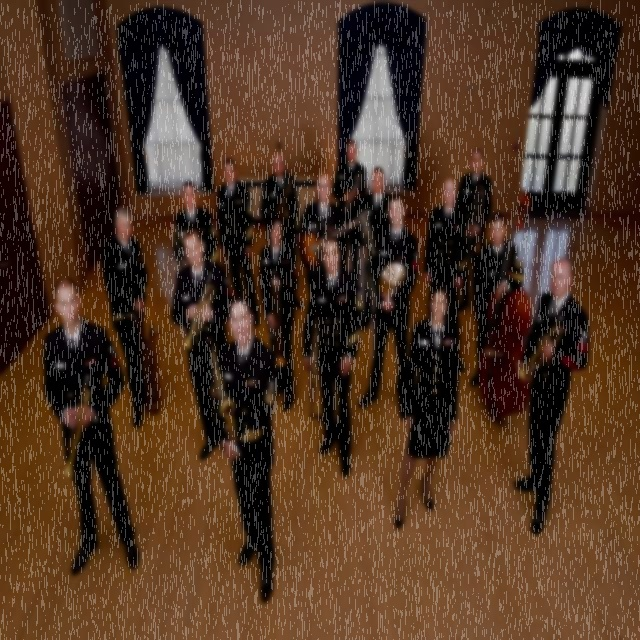pessoa: (39, 277, 140, 577), (209, 295, 282, 605), (513, 258, 590, 536), (394, 282, 462, 531), (300, 236, 366, 478), (170, 228, 232, 461), (358, 194, 420, 424), (101, 206, 156, 429), (470, 212, 525, 390), (424, 178, 471, 376), (260, 213, 298, 414), (217, 157, 260, 328), (260, 152, 305, 310), (455, 150, 493, 314), (300, 172, 348, 296), (359, 168, 393, 332), (332, 140, 367, 284), (172, 180, 219, 270)
